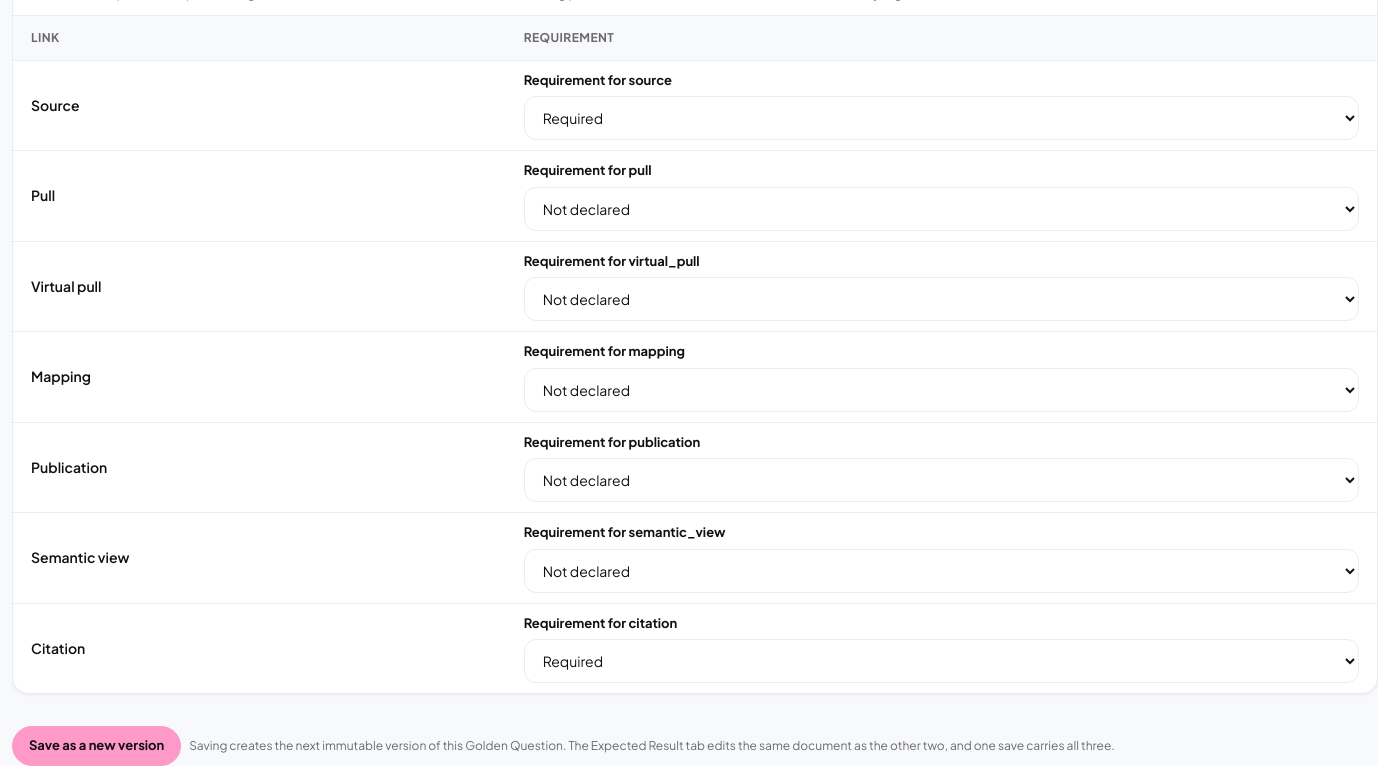
Test: shows the server's refusal by subject instead of rewriting it
(page scrolled)
Click the button with test id "golden-question-save" at (97, 746), box 12,726 -> 181,765
(page scrolled)
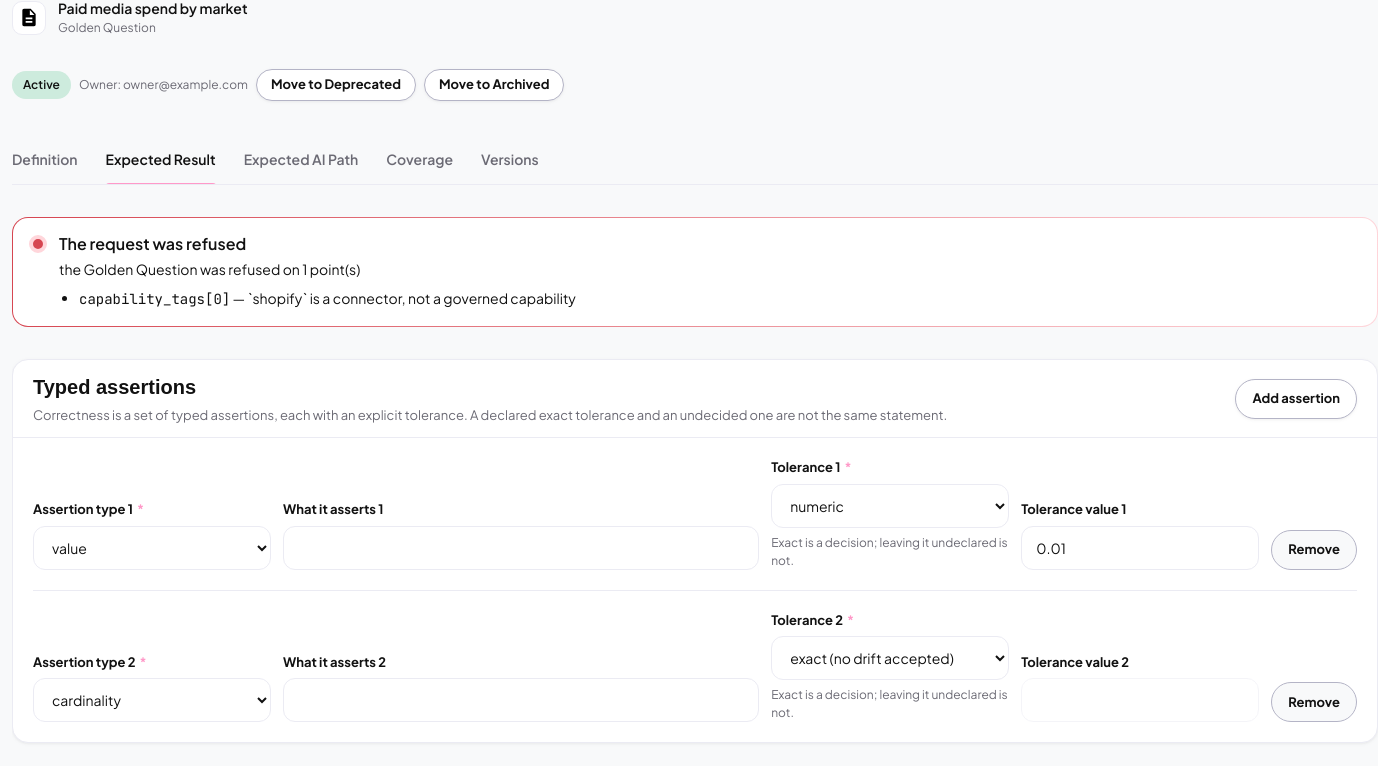
Expected: the message with test id "golden-question-refusal" shows "capability_tags[0]", 79,290 -> 230,308
Expected: the message with test id "golden-question-refusal" shows "is a connector, not a governed capability", 248,289 -> 576,307
